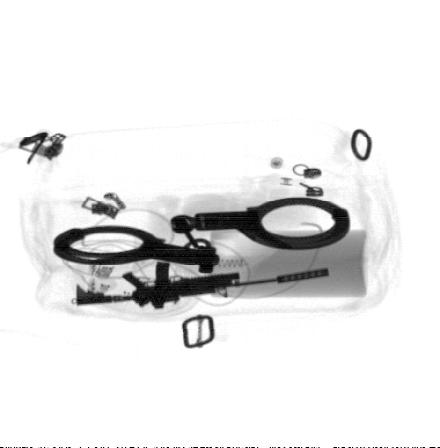Gun: (73, 260, 333, 311)
HandCuffs: (50, 192, 352, 274)
